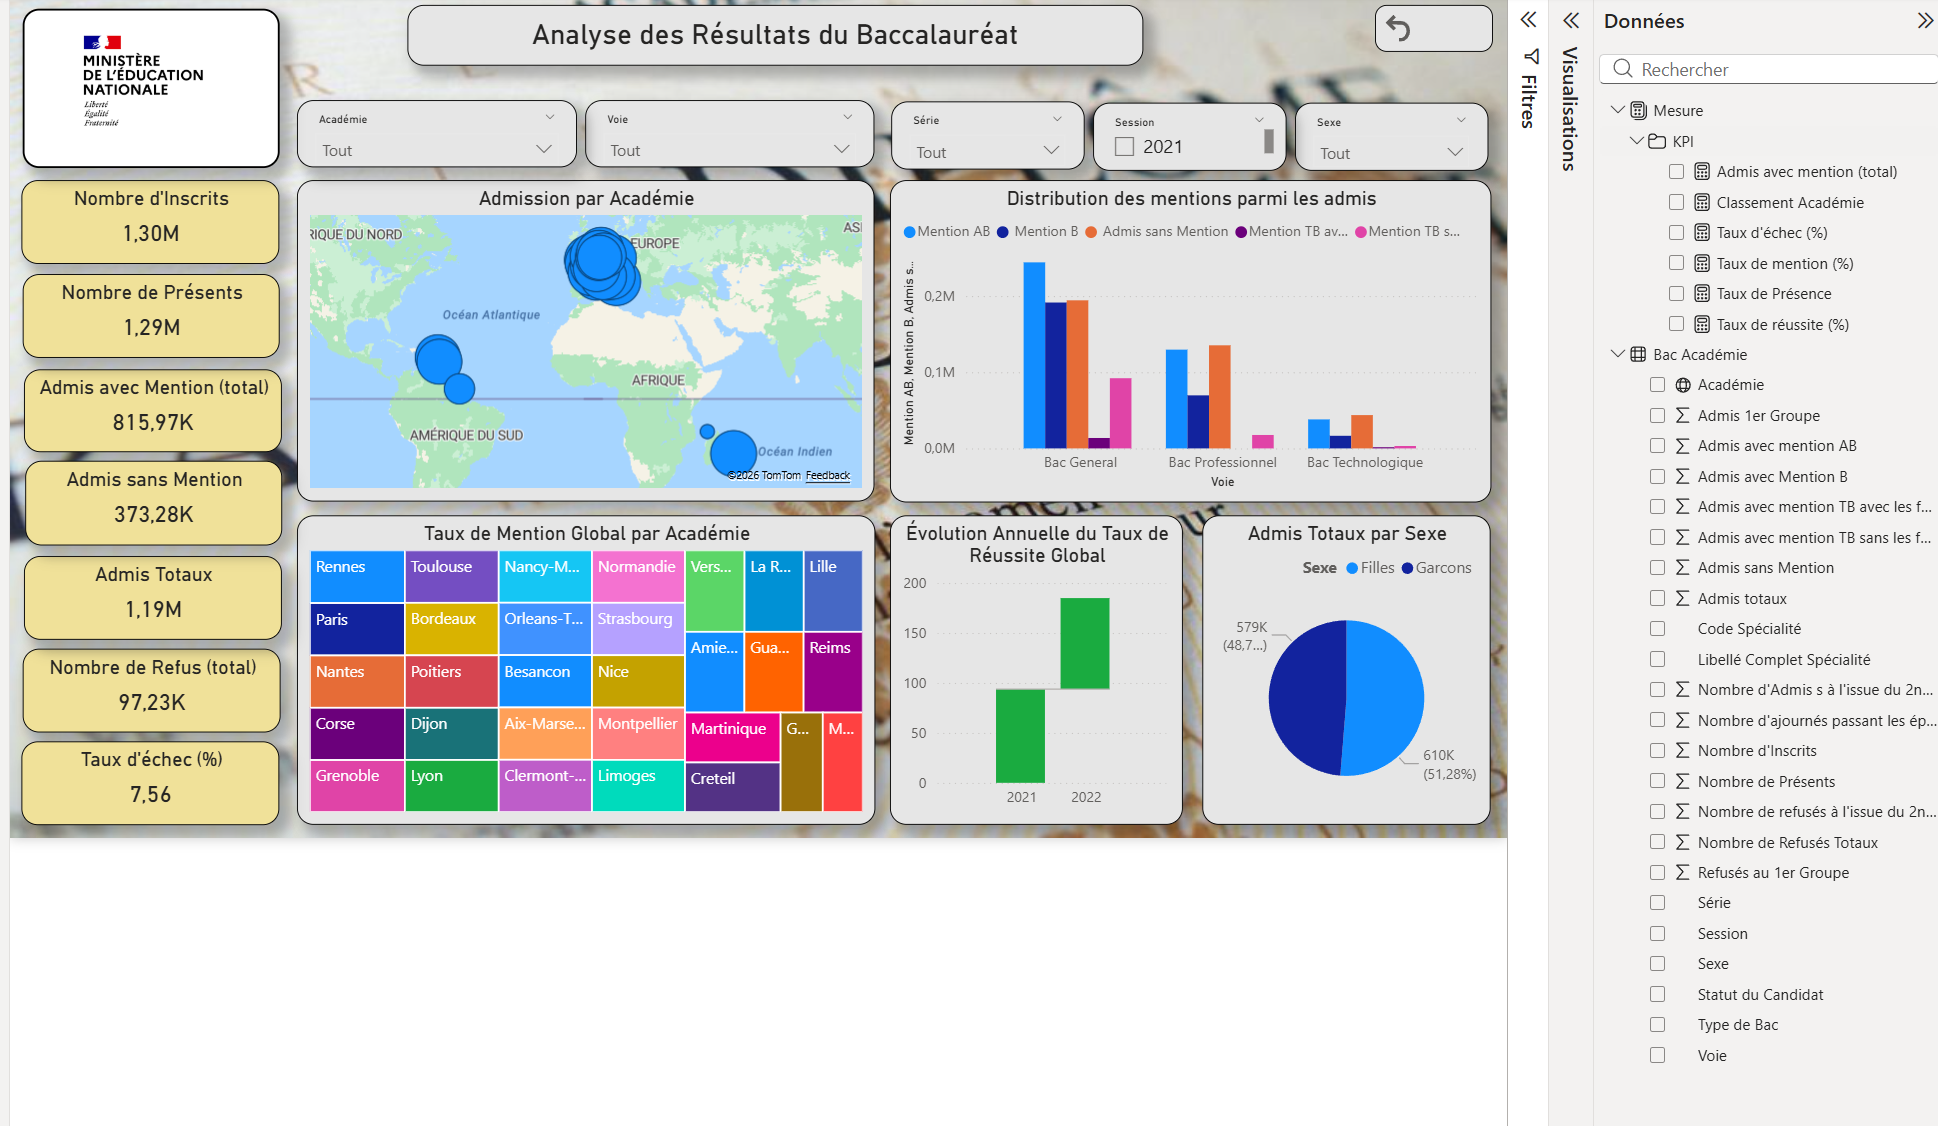

Layout of this report page (visuals, bound fields, positions):
{"tool":"powerbi","page":{"name":"BAC ACADEMIE","canvas":[1280,720],"ordinal":0},"visuals":[{"type":"card","title":"Admis avec Mention (total)","fields":{"Values":["Mesure.Admis avec mention (total)"]},"box":[11.9,319.3,220.7,71.2],"z":0},{"type":"card","title":"Nombre d''Inscrits","fields":{"Values":["Sum(Bac Académie.Nombre d'Inscrits)"]},"box":[10,157.9,220.8,72],"z":1000},{"type":"card","title":"Nombre de Présents","fields":{"Values":["Sum(Bac Académie.Nombre de Présents)"]},"box":[11,237.7,220,72],"z":2000},{"type":"card","title":"Nombre de Refus (total)","fields":{"Values":["Sum(Bac Académie.Nombre de Refusés Totaux)"]},"box":[11,557.8,220.8,72],"z":3000},{"type":"slicer","fields":{"Values":["Bac Académie.Sexe"]},"box":[1099.1,90.7,165,58],"z":4000},{"type":"slicer","fields":{"Values":["Bac Académie.Voie"]},"box":[491.7,89.2,247.4,57.8],"z":5000},{"type":"slicer","fields":{"Values":["Bac Académie.Série"]},"box":[753.7,89.9,165,58.5],"z":6000},{"type":"slicer","fields":{"Values":["Bac Académie.Session"]},"box":[926.4,90.7,165,58],"z":7000},{"type":"azureMap","title":" Admission par Académie","fields":{"Category":["Bac Académie.Académie"],"Size":["Mesure.Taux de réussite (%)"]},"box":[244.9,157.5,493.9,274.6],"z":8000},{"type":"treemap","title":"Taux de Mention Global par Académie","fields":{"Group":["Bac Académie.Académie"],"Values":["Mesure.Taux de réussite (%)"]},"box":[244.9,444.4,494.7,264.7],"z":9000},{"type":"slicer","fields":{"Values":["Bac Académie.Académie"]},"box":[245.3,89.2,239.3,57.8],"z":10000},{"type":"textbox","box":[340,7.4,629.4,51.7],"z":11000},{"type":"card","title":"Admis Totaux","fields":{"Values":["Sum(Bac Académie.Admis totaux)"]},"box":[12.4,478.3,220.6,71.6],"z":12000},{"type":"clusteredColumnChart","title":"Distribution des mentions parmi les admis","fields":{"Category":["Bac Académie.Voie"],"Y":["Sum(Bac Académie.Admis avec mention AB)","Sum(Bac Académie.Admis avec Mention B)","Sum(Bac Académie.Admis sans Mention)","Sum(Bac Académie.Admis avec mention TB avec les félicitations du jury)","Sum(Bac Académie.Admis avec mention TB sans les félicitations du jury)"]},"box":[752.8,157.5,514.5,275.4],"z":13000},{"type":"card","title":"Admis sans Mention","fields":{"Values":["Sum(Bac Académie.Admis sans Mention)"]},"box":[13.4,397.9,219.7,72.6],"z":14000},{"type":"actionButton","box":[1166.6,7.6,100.5,39.8],"z":15000},{"type":"card","title":"Taux d''échec (%)","fields":{"Values":["Mesure.Taux d'échec (%)"]},"box":[10,637.6,220.8,72],"z":16000},{"type":"waterfallChart","title":"Évolution Annuelle du Taux de Réussite Global","fields":{"Category":["Bac Académie.Session"],"Y":["Mesure.Taux de réussite (%)"]},"box":[752.8,444.4,250.7,264.7],"z":17000},{"type":"image","box":[11.2,11.2,220,135.9],"z":18000},{"type":"pieChart","title":"Admis Totaux par Sexe","fields":{"Category":["Bac Académie.Sexe"],"Y":["Sum(Bac Académie.Admis totaux)"]},"box":[1020,444.4,246.5,264.7],"z":19000}]}

Visuals, with their boxes on the page's 1280x720 design canvas (x1, y1, x2, y2). These are canvas units, not pixel positions in the 1938x1126 screenshot, which may show the page scaled, cropped or inside an application window:
"Admis avec Mention (total)" card: region(12, 319, 233, 390)
"Nombre d''Inscrits" card: region(10, 158, 231, 230)
"Nombre de Présents" card: region(11, 238, 231, 310)
"Nombre de Refus (total)" card: region(11, 558, 232, 630)
slicer - Bac Académie.Sexe: region(1099, 91, 1264, 149)
slicer - Bac Académie.Voie: region(492, 89, 739, 147)
slicer - Bac Académie.Série: region(754, 90, 919, 148)
slicer - Bac Académie.Session: region(926, 91, 1091, 149)
" Admission par Académie" azureMap: region(245, 158, 739, 432)
"Taux de Mention Global par Académie" treemap: region(245, 444, 740, 709)
slicer - Bac Académie.Académie: region(245, 89, 485, 147)
textbox: region(340, 7, 969, 59)
"Admis Totaux" card: region(12, 478, 233, 550)
"Distribution des mentions parmi les admis" clusteredColumnChart: region(753, 158, 1267, 433)
"Admis sans Mention" card: region(13, 398, 233, 470)
actionButton: region(1167, 8, 1267, 47)
"Taux d''échec (%)" card: region(10, 638, 231, 710)
"Évolution Annuelle du Taux de Réussite Global" waterfallChart: region(753, 444, 1004, 709)
image: region(11, 11, 231, 147)
"Admis Totaux par Sexe" pieChart: region(1020, 444, 1266, 709)
